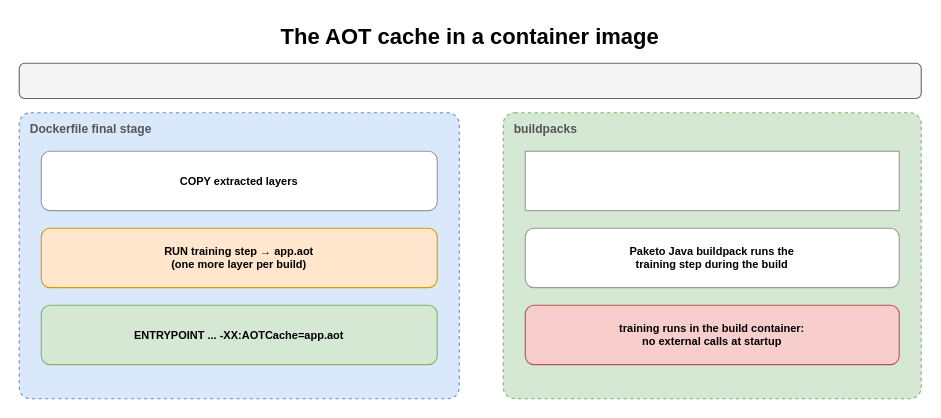
Image size: 941x418. Some labels were removed from this diagram. Here are the shapes that lost their labels. From the top down, the centre of each, then its label:
the point at 469,80: The image freezes the JDK and classpath the cache depends on
the point at 711,180: <BP_JVM_AOTCACHE_ENABLED>true </BP_JVM_AOTCACHE_ENABLED>
